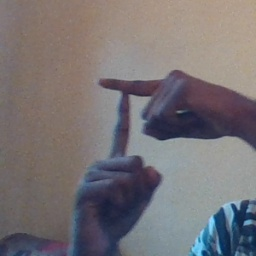T: (73, 66, 180, 187)
